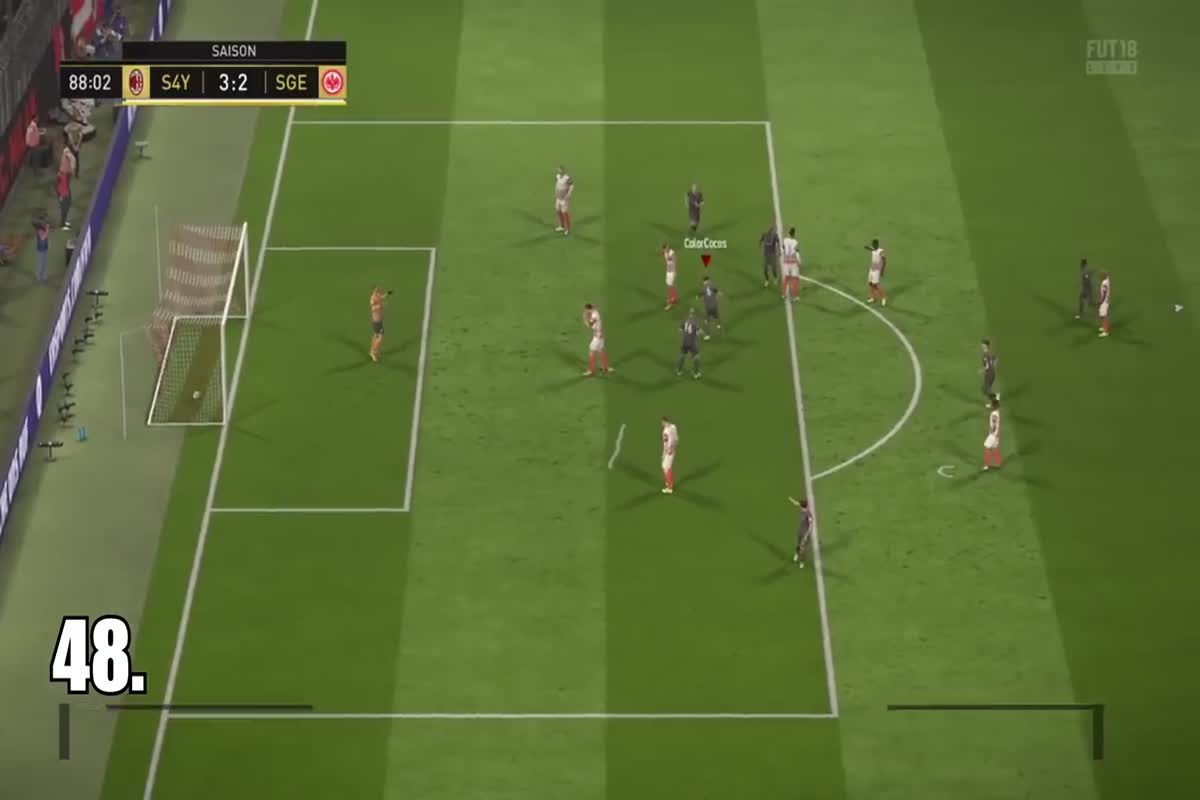ball: (187, 388, 207, 404)
